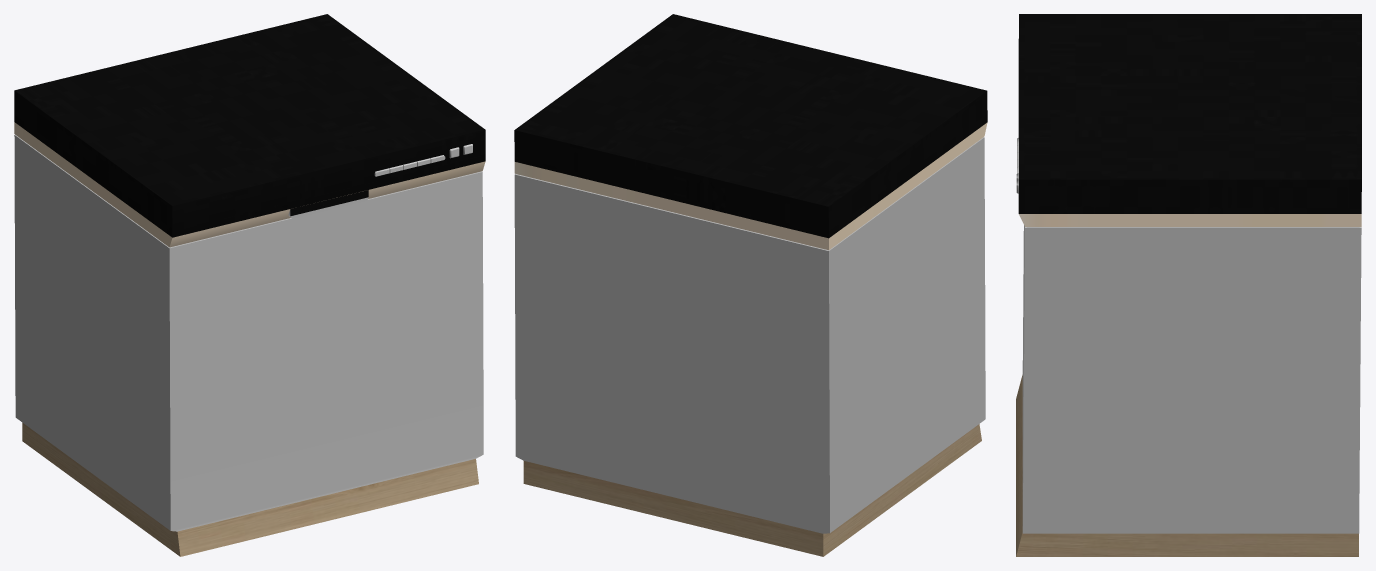
The model's file is washer.obj.
3 renders of one model, left to right at view 1: azimuth 30°, elevation 25°; view 2: azimuth 150°, elevation 25°; view 3: azimuth 270°, elevation 25°, orthographic. The views are drawn at different scales.
Visible parts, largest first — view 1: dishwasher; view 2: dishwasher; view 3: dishwasher.
Part boxes in pixels (x1,y1,x2,y2): dishwasher: [14, 14, 485, 556]; dishwasher: [514, 14, 987, 556]; dishwasher: [1016, 14, 1361, 556].
Size of the model in its own units: 0.9382 by 1.01 by 0.8272.
